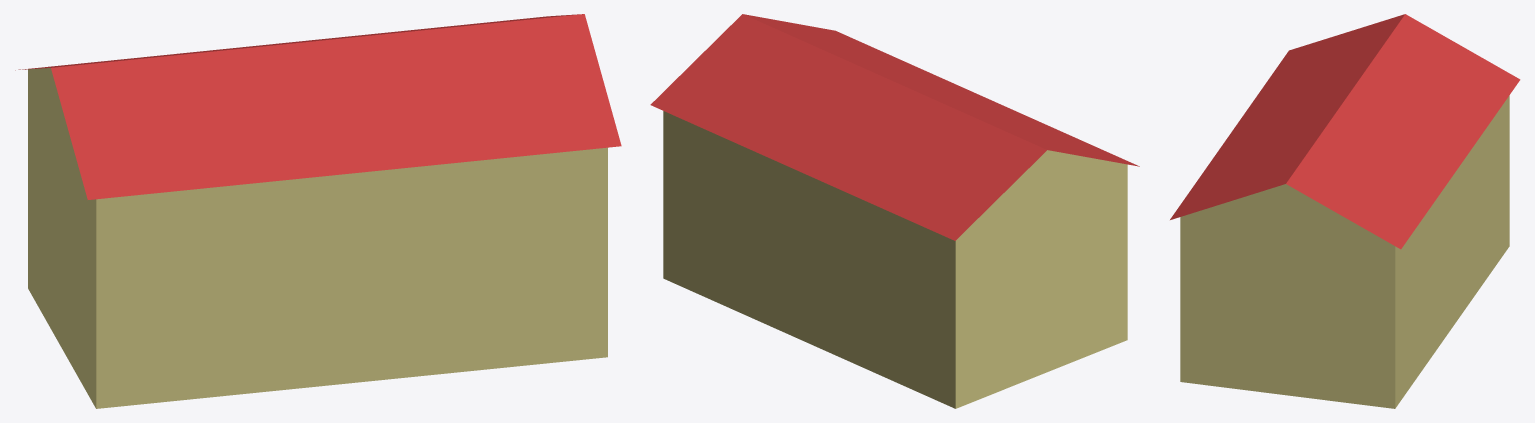
3 renders of one model, left to right at view 1: azimuth 30°, elevation 25°; view 2: azimuth 150°, elevation 25°; view 3: azimuth 270°, elevation 25°, orthographic. The views are drawn at different scales.
Parts seen in each view (by area): view 1: group_5, group_3; view 2: group_5, group_3, group_4; view 3: group_5, group_3, group_4.
Part boxes in pixels (left/top/right/bottom): group_5: left=28, top=68, right=607, bottom=408; group_3: left=29, top=14, right=621, bottom=199; group_5: left=663, top=111, right=1127, bottom=408; group_3: left=650, top=14, right=1139, bottom=231; group_4: left=653, top=14, right=1046, bottom=240; group_5: left=1180, top=95, right=1509, bottom=408; group_3: left=1170, top=14, right=1509, bottom=249; group_4: left=1268, top=14, right=1520, bottom=248.
Bounding box in the file's own units: 27.25 × 20.32 × 13.74.
